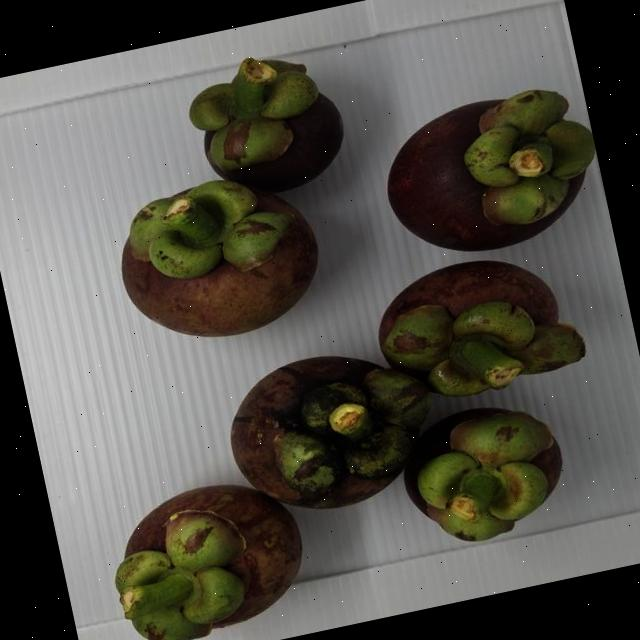mangosteen: (366, 64, 614, 288), (98, 147, 327, 386), (358, 229, 610, 445), (209, 316, 444, 538), (85, 453, 327, 640), (385, 394, 598, 566), (174, 46, 363, 216)
